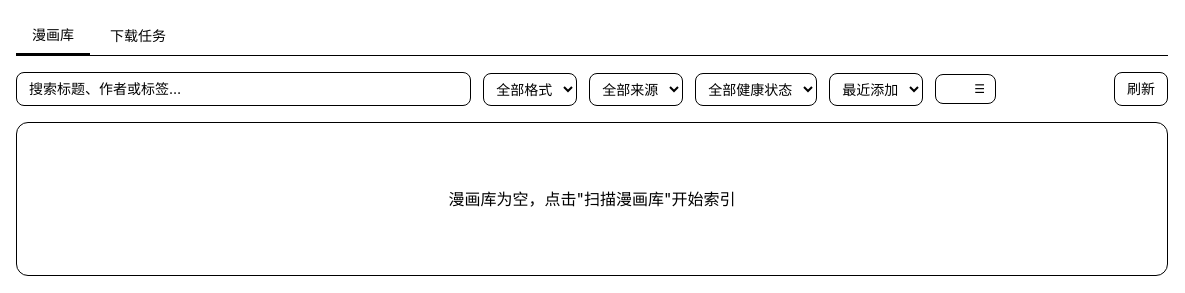
it: DownloadPage › shows download tasks when they exist
Click the button with test id "subtab-tasks" at (150, 36), box [94, 18, 206, 54]
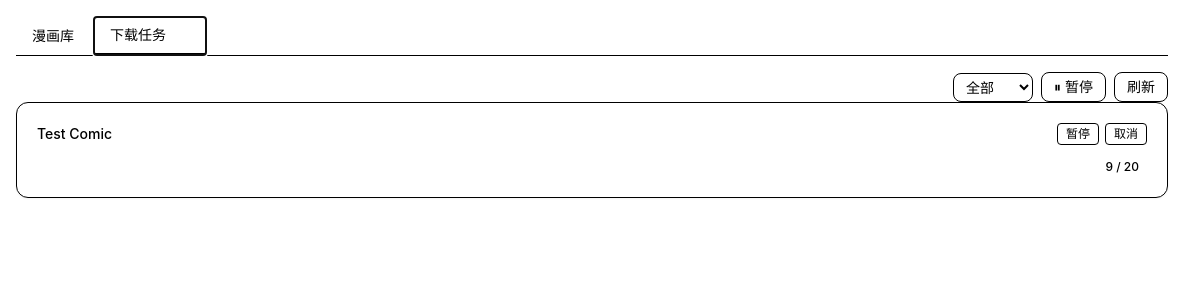
Expected: the heading "Test Comic" is shown, [37, 125, 112, 142]
